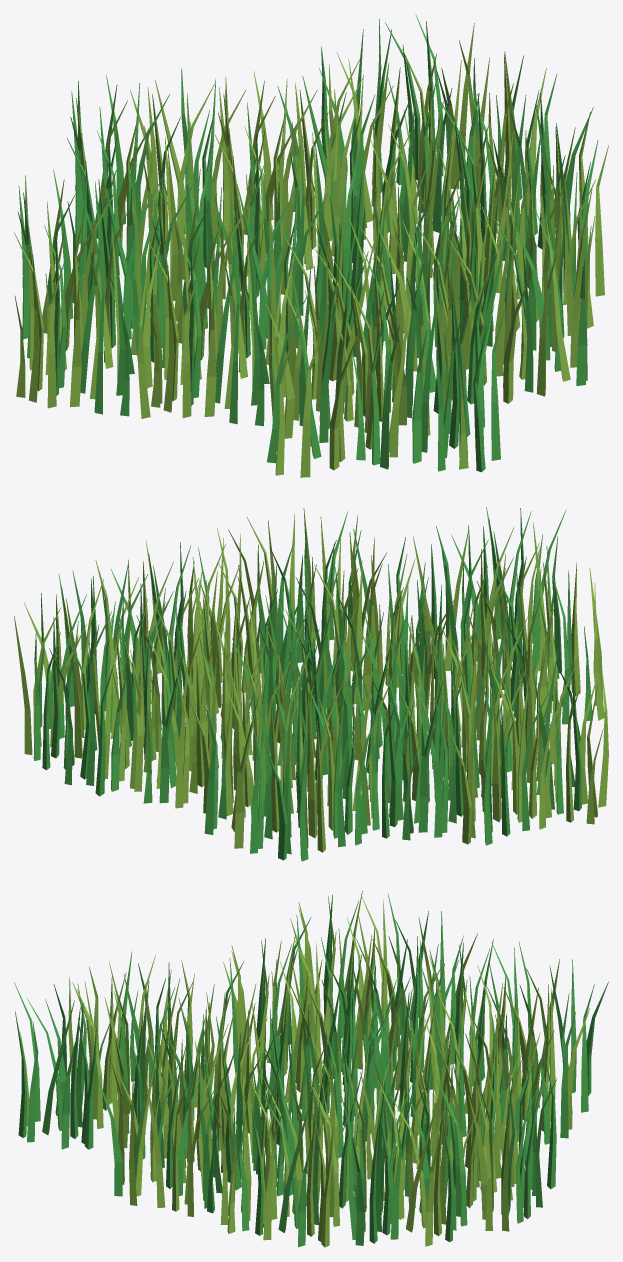
The picture shows the model from 3 angles, top to bottom: view 1: azimuth 30°, elevation 25°; view 2: azimuth 150°, elevation 25°; view 3: azimuth 270°, elevation 25°; orthographic projection. The views are drawn at different scales.
Visible parts, largest first — view 1: Node; view 2: Node; view 3: Node.
Boxes of the visible parts, x1=… form: Node: x1=14, y1=14, x2=608, y2=477; Node: x1=14, y1=506, x2=608, y2=861; Node: x1=14, y1=890, x2=608, y2=1247.
Size of the model in its own units: 2.78 by 0.8966 by 2.84.
